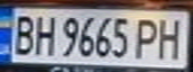5: (109, 13, 136, 60)
6: (93, 13, 115, 60), (78, 12, 96, 59)
9: (57, 12, 81, 57)
B: (6, 11, 39, 56)
H: (151, 14, 190, 61), (30, 11, 57, 56)
P: (133, 15, 163, 60)
